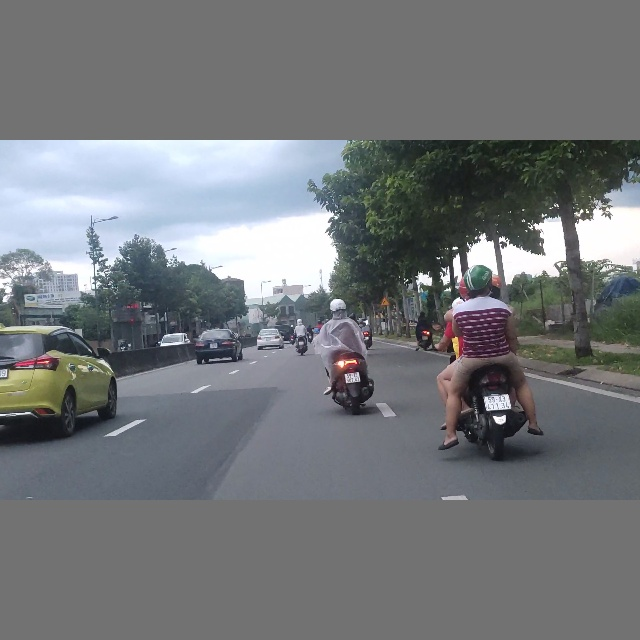W.201b: (380, 296, 390, 306)
